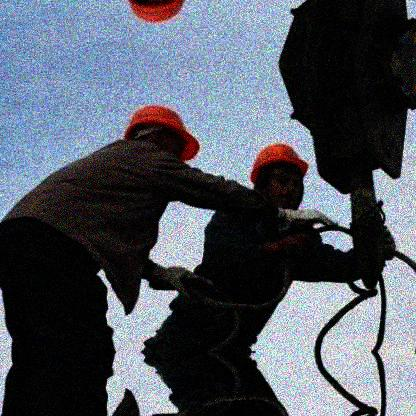helmet: (124, 105, 200, 163), (249, 142, 309, 209)
